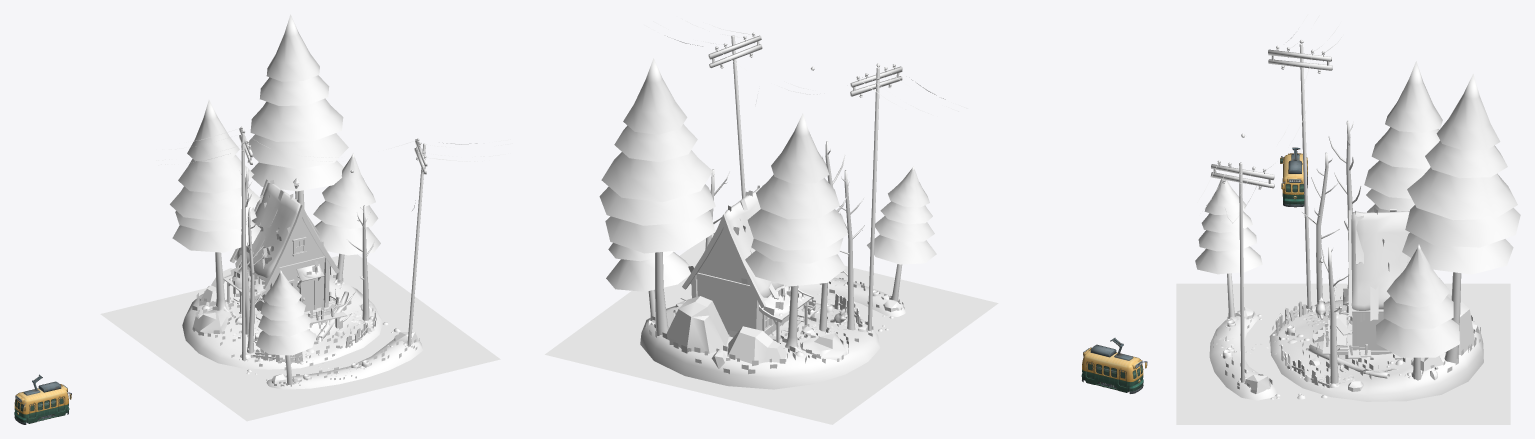
The picture shows the model from 3 angles, left to right: view 1: azimuth 30°, elevation 25°; view 2: azimuth 150°, elevation 25°; view 3: azimuth 270°, elevation 25°; orthographic projection. The views are drawn at different scales.
Parts seen in each view (by area): view 1: node_0e9efd8c_97be_4521_b60b_57c0738a4b78_mesh0, node_18b6d1a0_4c6b_4e5e_91a3_0b4866ea335e_mesh0, node_09b83310_7c18_4196_b206_6b5e62dc0964_mesh0, node_da94d614_bd16_4007_aaa8_c74e87cda3d4_mesh0, node_6b2c5457_4dbb_414a_9cbf_e2bea20ee07b_mesh0, node_a628aa63_c351_4860_9999_6f01349aec54_mesh0, node_538bc26a_b513_4d43_826b_42763aa9aee2_mesh0, node_da6e07d2_f5c0_444c_a101_9376d09f4280_mesh0, node_6b645c29_018d_4c19_8e86_66908ba14556_mesh0, train, node_08c8525e_aeb7_4bff_8b16_f7f2befb8901_mesh0; view 2: node_0e9efd8c_97be_4521_b60b_57c0738a4b78_mesh0, node_18b6d1a0_4c6b_4e5e_91a3_0b4866ea335e_mesh0, node_09b83310_7c18_4196_b206_6b5e62dc0964_mesh0, node_6b645c29_018d_4c19_8e86_66908ba14556_mesh0, node_a628aa63_c351_4860_9999_6f01349aec54_mesh0, node_6b2c5457_4dbb_414a_9cbf_e2bea20ee07b_mesh0, node_538bc26a_b513_4d43_826b_42763aa9aee2_mesh0, node_da94d614_bd16_4007_aaa8_c74e87cda3d4_mesh0, train, node_da6e07d2_f5c0_444c_a101_9376d09f4280_mesh0; view 3: node_0e9efd8c_97be_4521_b60b_57c0738a4b78_mesh0, node_18b6d1a0_4c6b_4e5e_91a3_0b4866ea335e_mesh0, node_09b83310_7c18_4196_b206_6b5e62dc0964_mesh0, node_da94d614_bd16_4007_aaa8_c74e87cda3d4_mesh0, node_538bc26a_b513_4d43_826b_42763aa9aee2_mesh0, node_6b2c5457_4dbb_414a_9cbf_e2bea20ee07b_mesh0, node_6b645c29_018d_4c19_8e86_66908ba14556_mesh0, node_da6e07d2_f5c0_444c_a101_9376d09f4280_mesh0, node_08c8525e_aeb7_4bff_8b16_f7f2befb8901_mesh0, node_a628aa63_c351_4860_9999_6f01349aec54_mesh0, train.
Part boxes in pixels (x1,y1,x2,y2): node_0e9efd8c_97be_4521_b60b_57c0738a4b78_mesh0: (170, 14, 380, 355); node_18b6d1a0_4c6b_4e5e_91a3_0b4866ea335e_mesh0: (100, 254, 500, 421); node_09b83310_7c18_4196_b206_6b5e62dc0964_mesh0: (182, 275, 423, 389); node_da94d614_bd16_4007_aaa8_c74e87cda3d4_mesh0: (223, 178, 334, 300); node_6b2c5457_4dbb_414a_9cbf_e2bea20ee07b_mesh0: (209, 168, 375, 384); node_a628aa63_c351_4860_9999_6f01349aec54_mesh0: (230, 179, 339, 311); node_538bc26a_b513_4d43_826b_42763aa9aee2_mesh0: (239, 126, 427, 379); node_da6e07d2_f5c0_444c_a101_9376d09f4280_mesh0: (156, 128, 512, 386); node_6b645c29_018d_4c19_8e86_66908ba14556_mesh0: (192, 268, 418, 383); train: (14, 374, 71, 424); node_08c8525e_aeb7_4bff_8b16_f7f2befb8901_mesh0: (233, 281, 347, 328); node_0e9efd8c_97be_4521_b60b_57c0738a4b78_mesh0: (599, 58, 936, 291); node_18b6d1a0_4c6b_4e5e_91a3_0b4866ea335e_mesh0: (545, 234, 998, 424); node_09b83310_7c18_4196_b206_6b5e62dc0964_mesh0: (640, 277, 905, 389); node_6b645c29_018d_4c19_8e86_66908ba14556_mesh0: (645, 283, 902, 368); node_a628aa63_c351_4860_9999_6f01349aec54_mesh0: (682, 185, 789, 335); node_6b2c5457_4dbb_414a_9cbf_e2bea20ee07b_mesh0: (648, 141, 902, 351); node_538bc26a_b513_4d43_826b_42763aa9aee2_mesh0: (708, 32, 902, 330); node_da94d614_bd16_4007_aaa8_c74e87cda3d4_mesh0: (708, 188, 813, 322); train: (1081, 338, 1147, 393); node_da6e07d2_f5c0_444c_a101_9376d09f4280_mesh0: (644, 18, 967, 374); node_0e9efd8c_97be_4521_b60b_57c0738a4b78_mesh0: (1195, 61, 1520, 357); node_18b6d1a0_4c6b_4e5e_91a3_0b4866ea335e_mesh0: (1176, 283, 1510, 424); node_09b83310_7c18_4196_b206_6b5e62dc0964_mesh0: (1209, 300, 1483, 401); node_da94d614_bd16_4007_aaa8_c74e87cda3d4_mesh0: (1343, 209, 1411, 321); node_538bc26a_b513_4d43_826b_42763aa9aee2_mesh0: (1210, 43, 1332, 387); node_6b2c5457_4dbb_414a_9cbf_e2bea20ee07b_mesh0: (1227, 120, 1461, 383); node_6b645c29_018d_4c19_8e86_66908ba14556_mesh0: (1220, 294, 1479, 399); node_da6e07d2_f5c0_444c_a101_9376d09f4280_mesh0: (1197, 14, 1480, 393); node_08c8525e_aeb7_4bff_8b16_f7f2befb8901_mesh0: (1313, 305, 1405, 366); node_a628aa63_c351_4860_9999_6f01349aec54_mesh0: (1348, 210, 1387, 350); train: (1280, 147, 1307, 207).
Bounding box in the file's own units: 9.39 × 5.24 × 5.28.
Materials: 16 (3 with a texture image).
